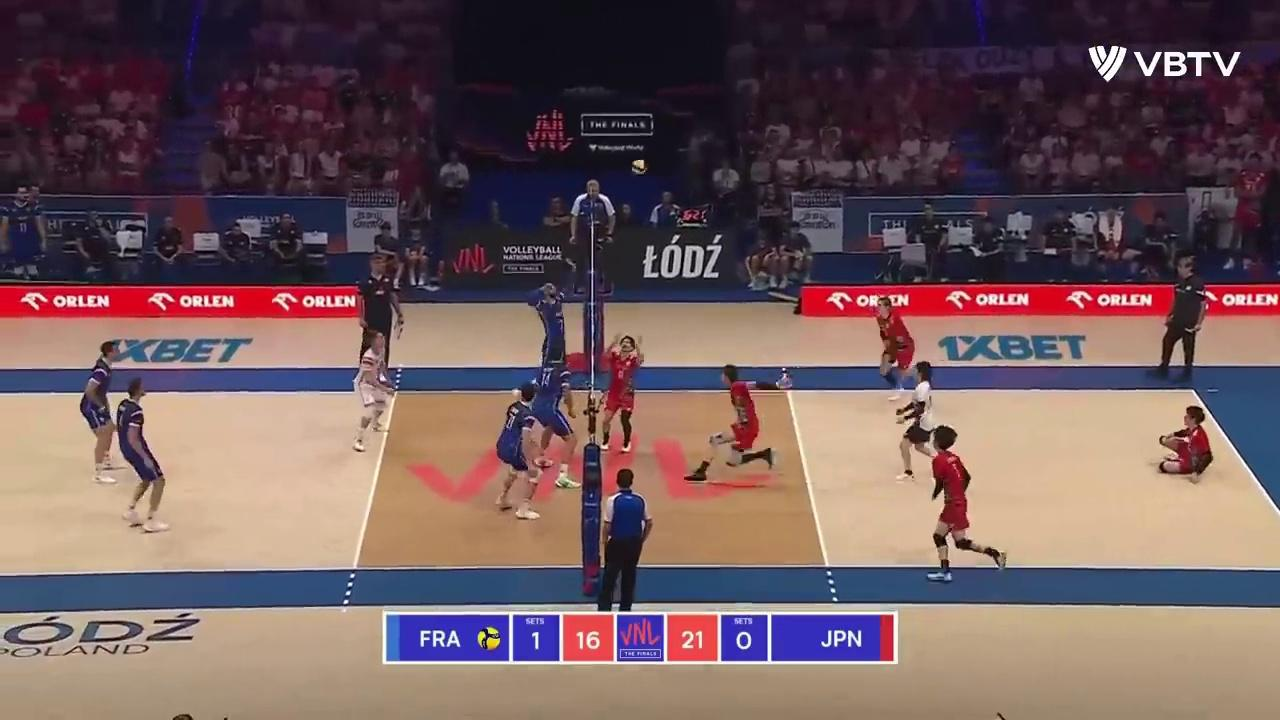ball: (630, 160, 648, 174)
